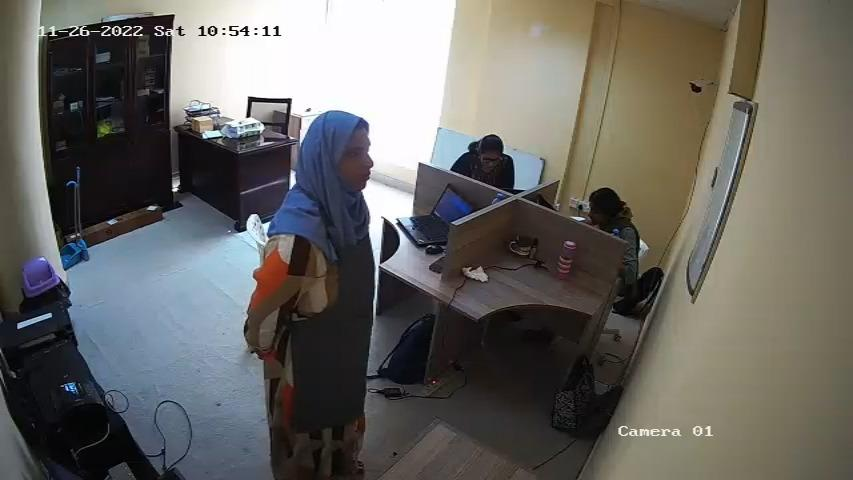apron: (286, 216, 376, 440)
